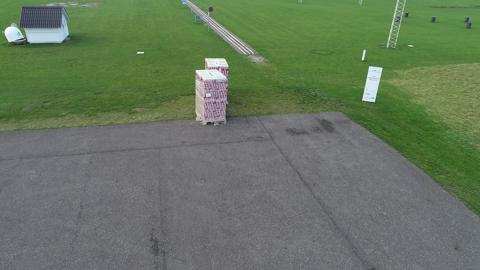RockwoolPallet: (207, 57, 230, 86)
